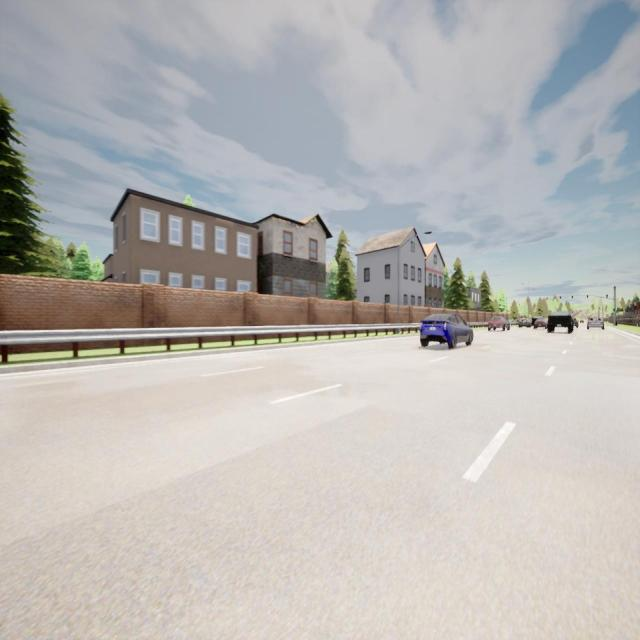Vehicle: (419, 311, 474, 349), (547, 312, 573, 332), (488, 315, 510, 332), (586, 315, 604, 329), (533, 318, 548, 331), (518, 317, 531, 329), (573, 317, 579, 328), (511, 320, 517, 326), (580, 320, 584, 323)
traffic_light: (613, 309, 615, 313), (606, 295, 608, 299), (560, 296, 561, 300), (572, 296, 573, 300), (587, 295, 588, 299)
